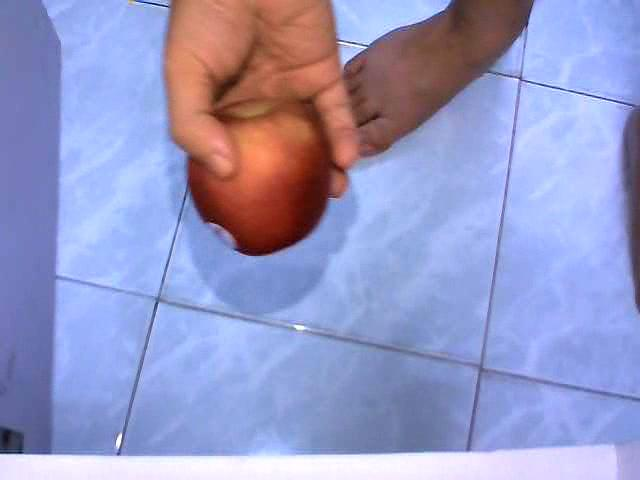apple: (185, 103, 333, 258)
